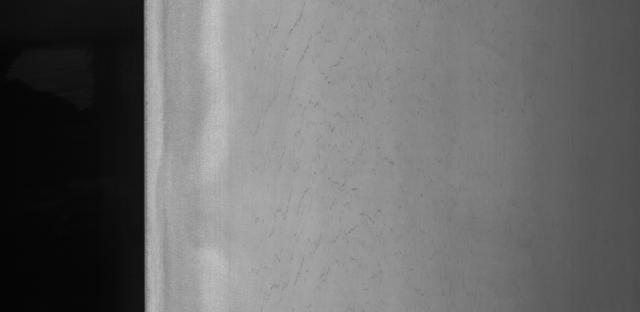silk_spot: (266, 13, 391, 312)
